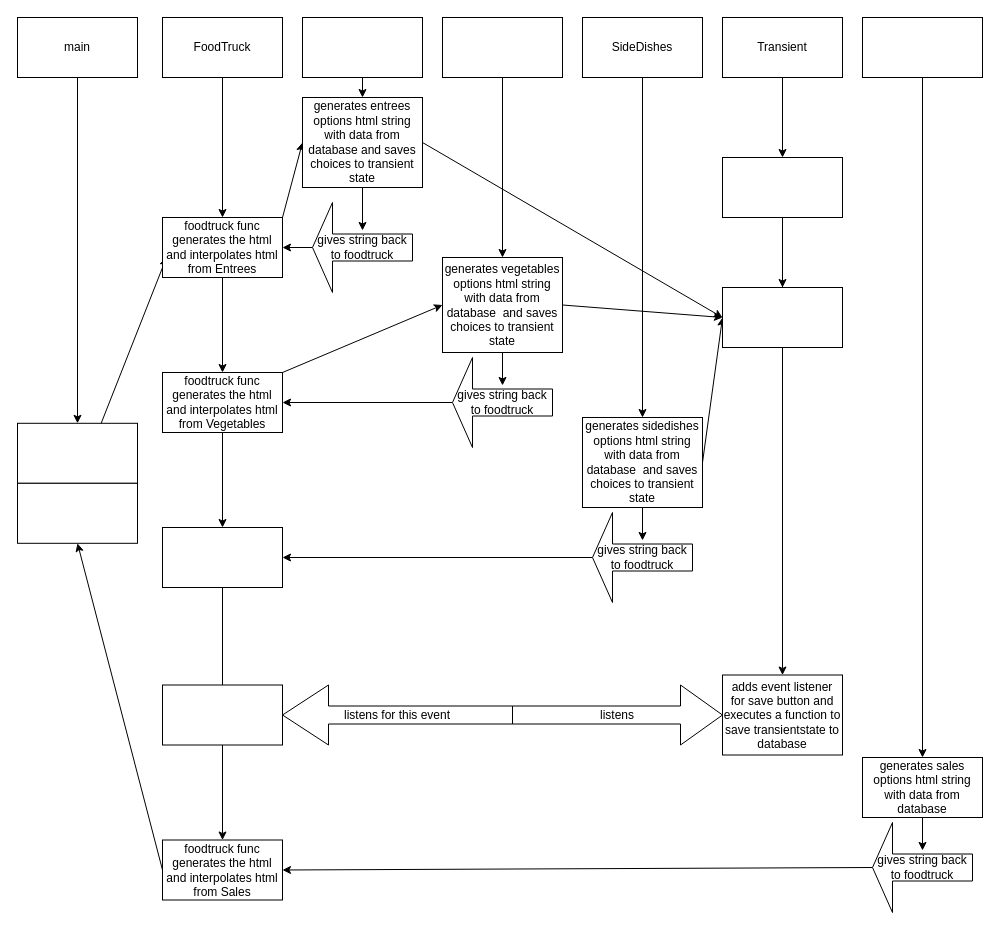
This 1000x930 diagram has some shape labels left out. The centre of each missing label's shape, as x and y in pixels:
adds html for purchase combo button: pixel 222 714
declares transient state: pixel 782 317
Entrees: pixel 362 47
exports transient setter functions to modules: pixel 782 187
foodtruck func generates the html and interpolates html from SideDishes: pixel 222 557
invokes render function wich invokes the foodtruck function: pixel 77 452
Sales: pixel 922 47
sets inner html to the returned string from food truck: pixel 77 512
Vegetables: pixel 502 47
